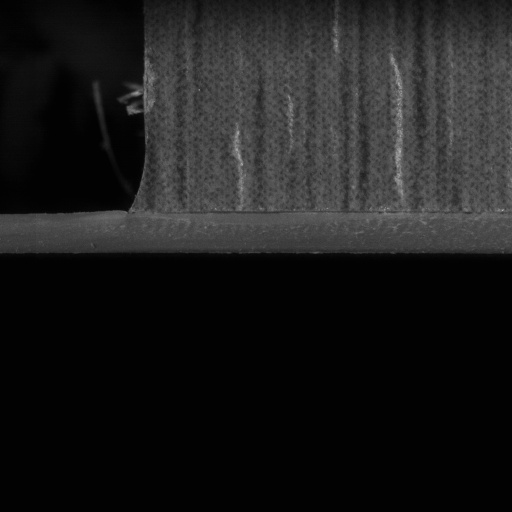changdai: (0, 208, 129, 256)
